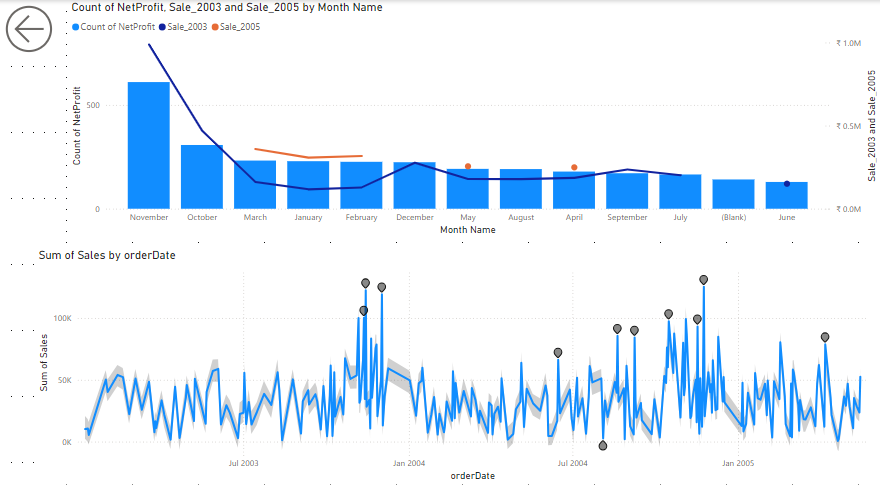

Layout of this report page (visuals, bound fields, positions):
{"tool":"powerbi","page":{"name":"Page 2","canvas":[1280,720],"ordinal":2},"visuals":[{"type":"actionButton","box":[0,0,99.4,84.2],"z":0},{"type":"lineClusteredColumnComboChart","fields":{"Y2":["orders csv.Sale_2003","orders csv.Sale_2005"],"Category":["orders csv.Month Name"],"Y":["CountNonNull(order details csv.NetProfit)"]},"box":[99.4,0,1180.6,346.9],"z":1000},{"type":"lineChart","fields":{"Y":["Sum(order details csv.Sales)"],"Category":["orders csv.orderDate"]},"box":[50.5,360.4,1229.5,343.6],"z":2000}]}

Visuals, with their boxes in screenshot pixels (x1, y1, x2, y2), scaled from the page's 1280x720 canvas onto the 880x487 screenshot:
actionButton: 0,0,68,57
lineClusteredColumnComboChart - orders csv.Sale_2003 x orders csv.Sale_2005: 68,0,879,235
lineChart - Sum(order details csv.Sales) x orders csv.orderDate: 35,244,879,476
